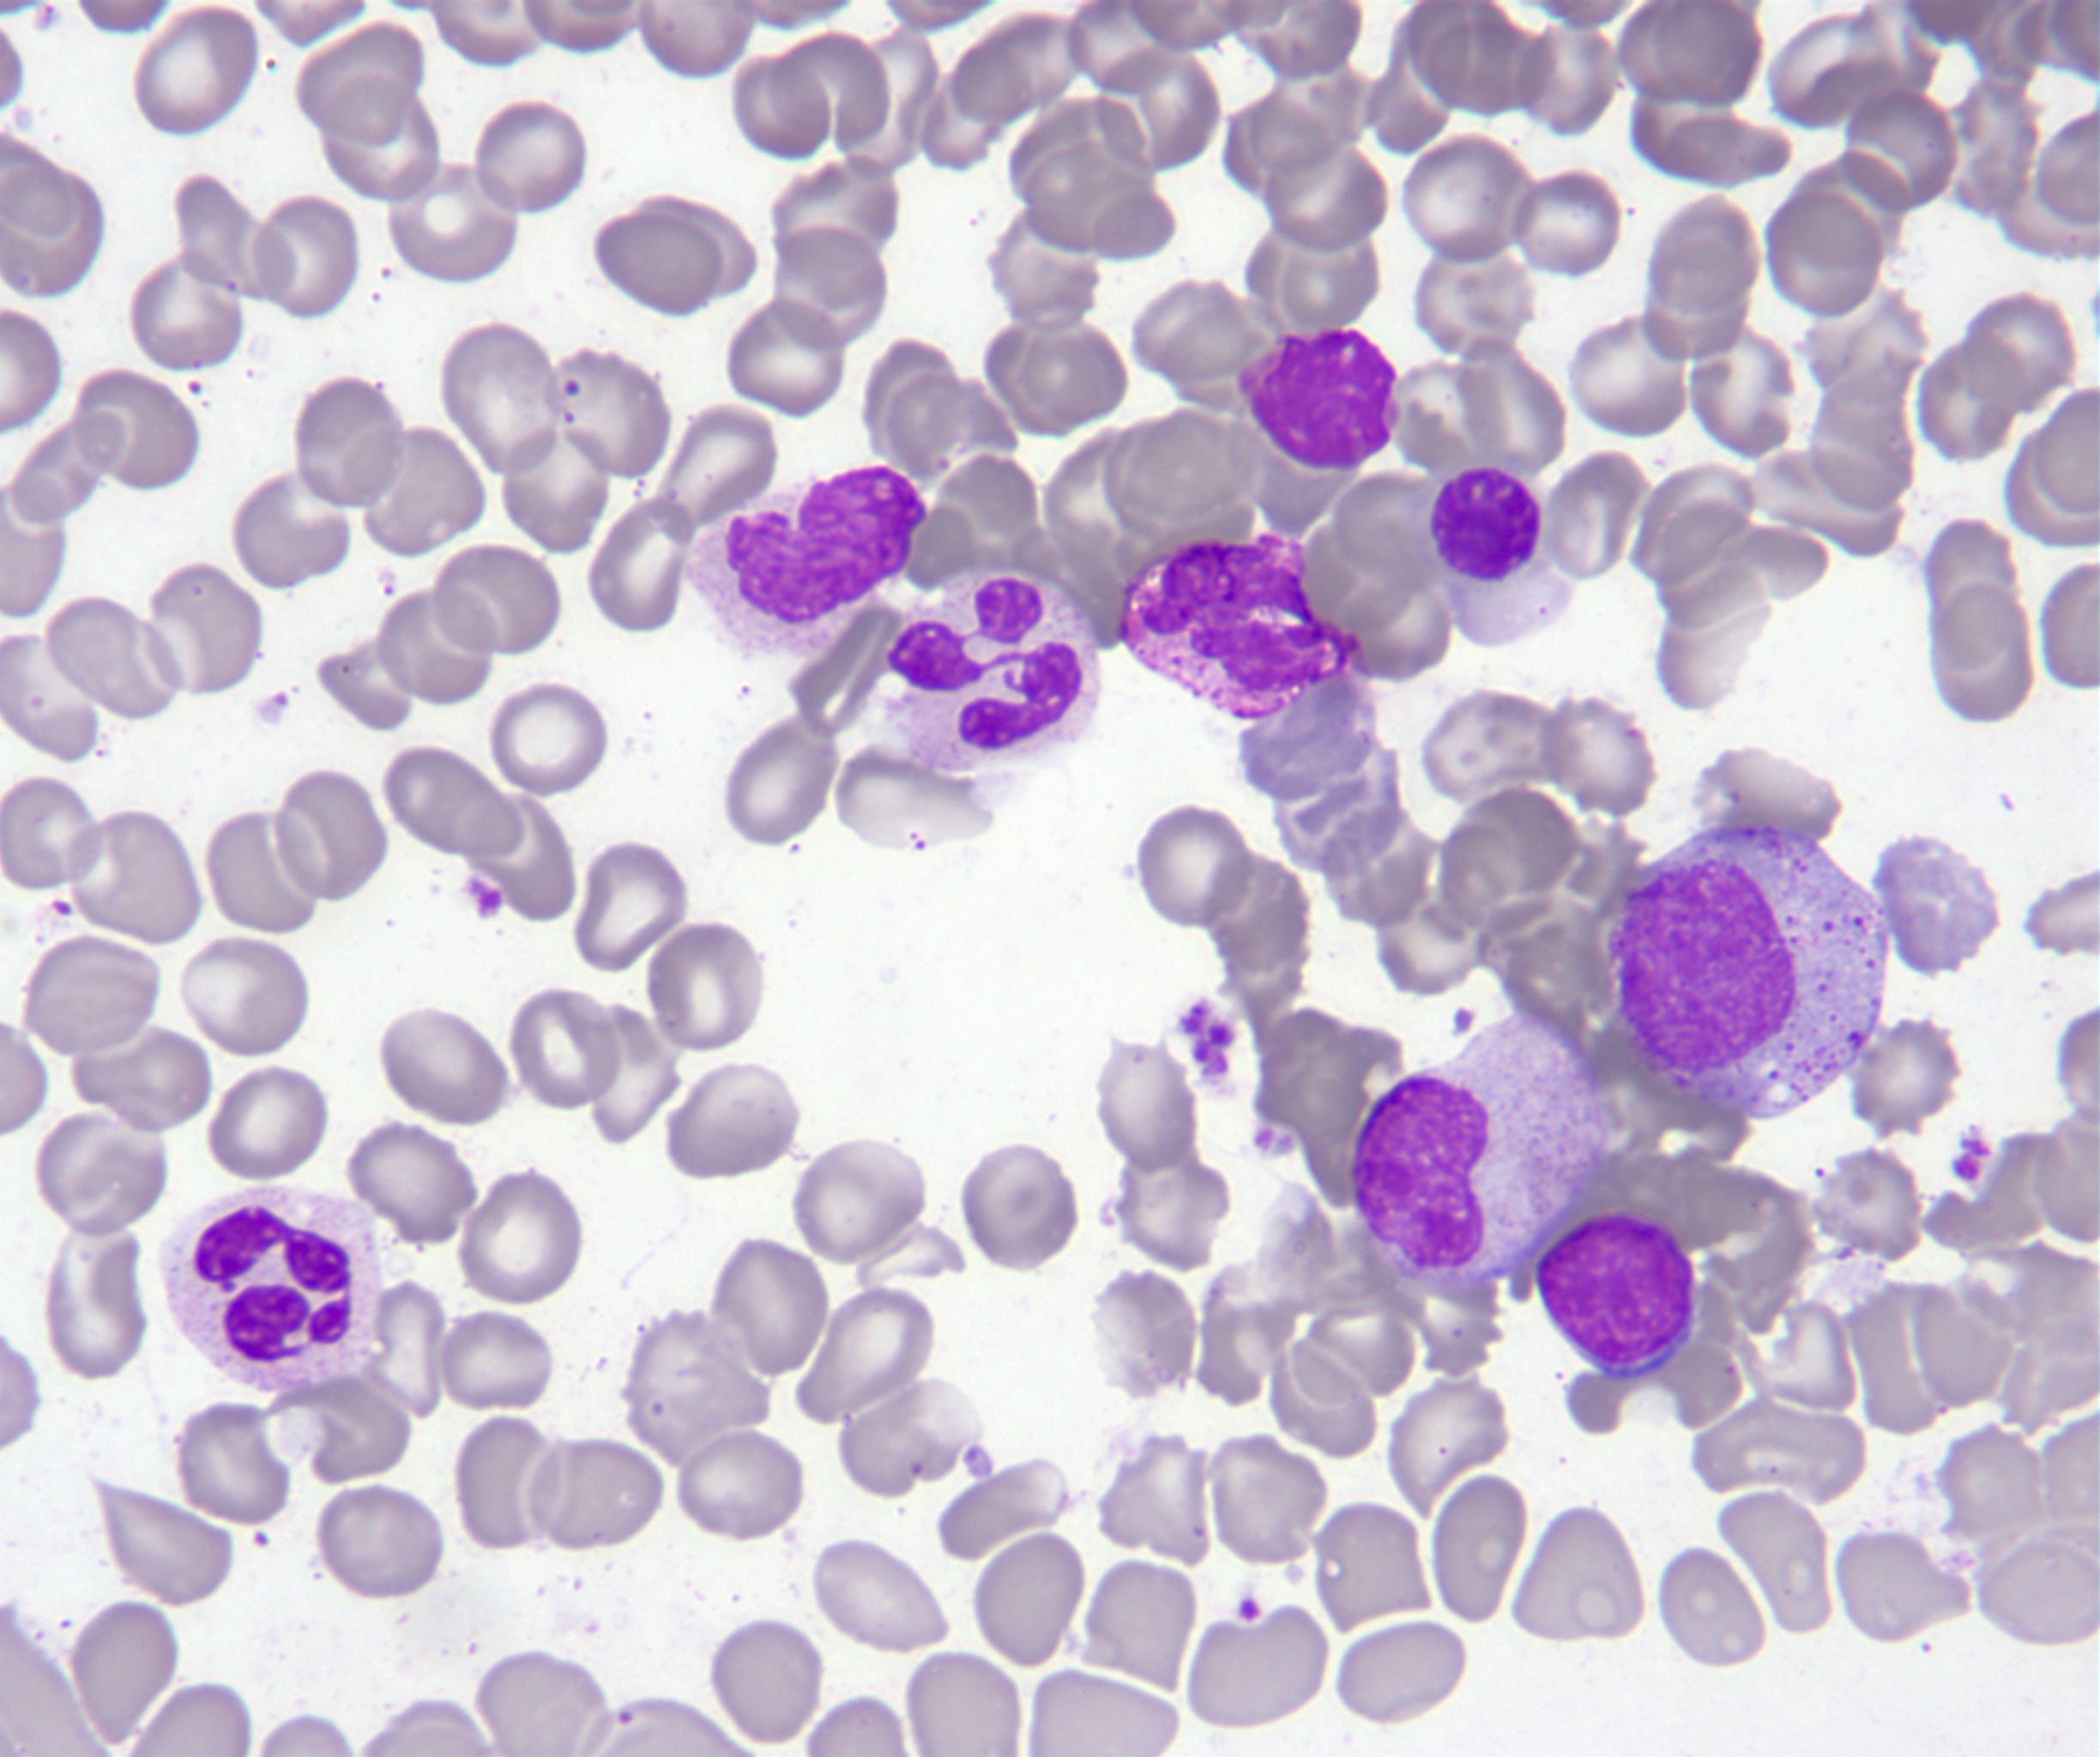24: (1427, 466, 1572, 647)
3: (1613, 827, 1891, 1120)
32: (1538, 1216, 1695, 1377)
4: (1355, 1015, 1603, 1282)
5: (685, 466, 926, 656)
6: (883, 569, 1102, 775), (159, 1188, 378, 1389)
B4: (1118, 529, 1362, 722)
x: (1238, 326, 1399, 469)
